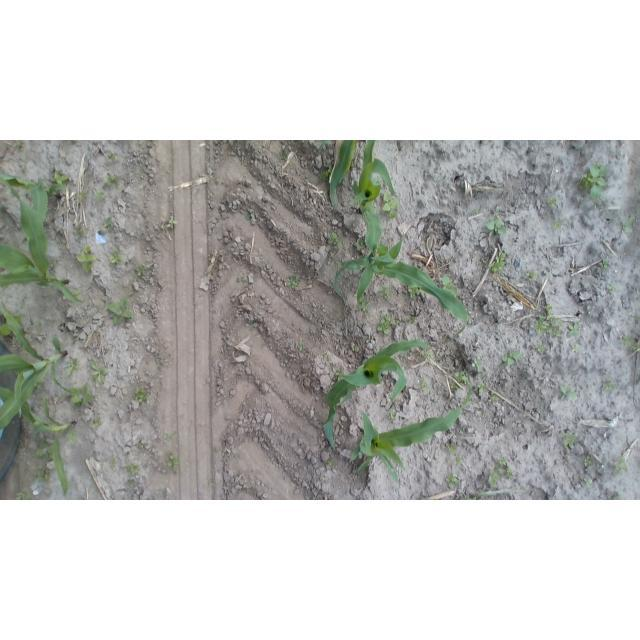Maize: (331, 239, 471, 338), (319, 340, 439, 454), (354, 385, 467, 480), (1, 177, 82, 307), (0, 298, 66, 430), (0, 385, 76, 497), (353, 140, 397, 310), (317, 141, 363, 210), (0, 171, 66, 198)
Weeds: (579, 164, 609, 200), (459, 488, 526, 500), (106, 299, 131, 324), (69, 383, 96, 405), (76, 244, 96, 273), (486, 211, 507, 235), (35, 437, 54, 461), (383, 193, 400, 219), (91, 360, 108, 385), (441, 274, 459, 296), (549, 312, 564, 338), (497, 457, 513, 480), (533, 314, 549, 335), (489, 253, 506, 272), (561, 429, 578, 447), (502, 350, 522, 365), (357, 294, 371, 315), (613, 457, 628, 476), (36, 465, 53, 481), (560, 385, 577, 400), (621, 216, 635, 233), (66, 358, 79, 376), (565, 322, 579, 338), (329, 232, 342, 249), (472, 355, 484, 373), (51, 172, 69, 184), (125, 462, 140, 476), (104, 173, 118, 188), (136, 387, 149, 403), (489, 469, 500, 487), (167, 456, 180, 471), (378, 319, 390, 335), (0, 320, 12, 336), (103, 214, 114, 231), (286, 276, 300, 289), (446, 473, 458, 488), (109, 252, 123, 264), (379, 285, 391, 299), (455, 371, 469, 383), (136, 264, 149, 276), (603, 378, 616, 390), (420, 377, 431, 391), (524, 271, 538, 282), (15, 489, 29, 500), (408, 286, 420, 298), (623, 335, 634, 348), (383, 314, 396, 324), (335, 368, 345, 380), (421, 349, 431, 361), (447, 442, 457, 454), (13, 314, 23, 326), (94, 191, 105, 201), (607, 284, 619, 293), (600, 258, 609, 270), (552, 221, 562, 231), (478, 382, 487, 393), (584, 457, 593, 468), (93, 417, 102, 428), (356, 238, 364, 250), (167, 220, 177, 229), (544, 303, 553, 313), (571, 343, 580, 353), (35, 379, 44, 389), (280, 150, 289, 160), (489, 394, 500, 402), (535, 343, 546, 351), (325, 166, 332, 178), (454, 456, 463, 465), (584, 477, 592, 487), (108, 152, 116, 162), (78, 192, 88, 200), (69, 289, 80, 296), (76, 230, 85, 238), (323, 352, 331, 361), (632, 342, 640, 351), (548, 198, 556, 207), (297, 342, 305, 350), (450, 383, 459, 390), (373, 178, 381, 185), (409, 317, 416, 324), (389, 412, 396, 419), (16, 141, 23, 148), (109, 458, 115, 466), (163, 433, 171, 439), (418, 496, 427, 501), (78, 496, 89, 500), (327, 460, 334, 466), (113, 245, 119, 251), (55, 237, 61, 243), (351, 345, 357, 351), (633, 316, 640, 321), (472, 208, 479, 213), (246, 213, 251, 220), (203, 484, 214, 487), (374, 426, 380, 431), (531, 487, 537, 492), (342, 425, 347, 430), (236, 277, 241, 282), (36, 321, 40, 327), (610, 497, 618, 500), (53, 259, 57, 265), (22, 166, 26, 171), (140, 445, 144, 449)
